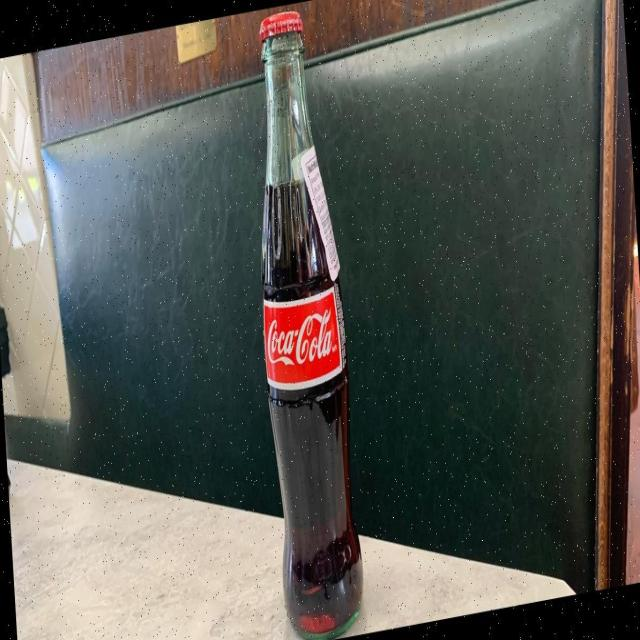coca-cola: (243, 0, 371, 640)
